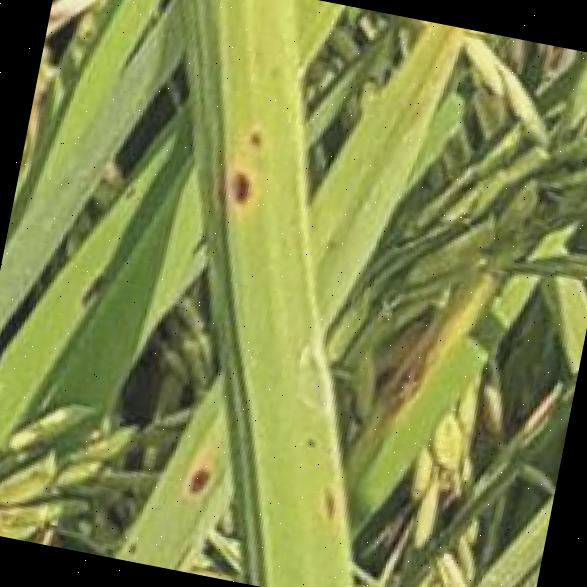Brown_Spot: (205, 158, 265, 209), (177, 449, 222, 505), (314, 480, 354, 528), (233, 114, 266, 143)
